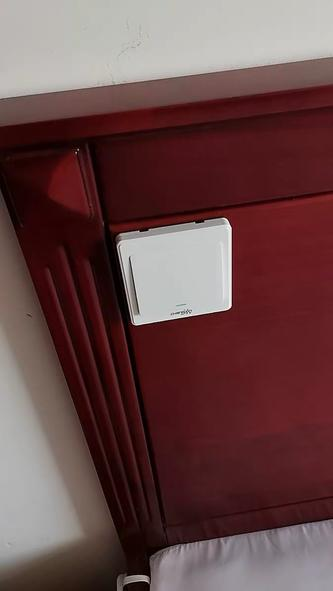switch: (121, 243, 231, 313)
